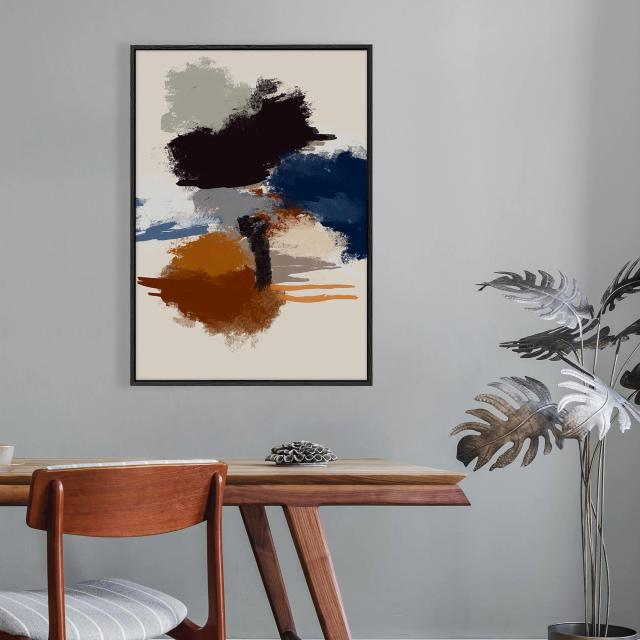painting: (131, 44, 373, 387)
